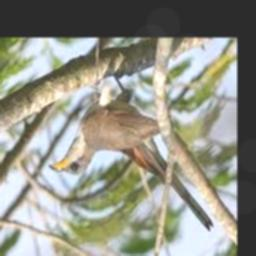Cuckoo: (48, 73, 213, 232)
